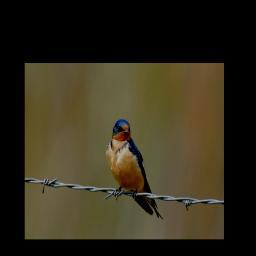Swallow: (105, 118, 163, 220)
